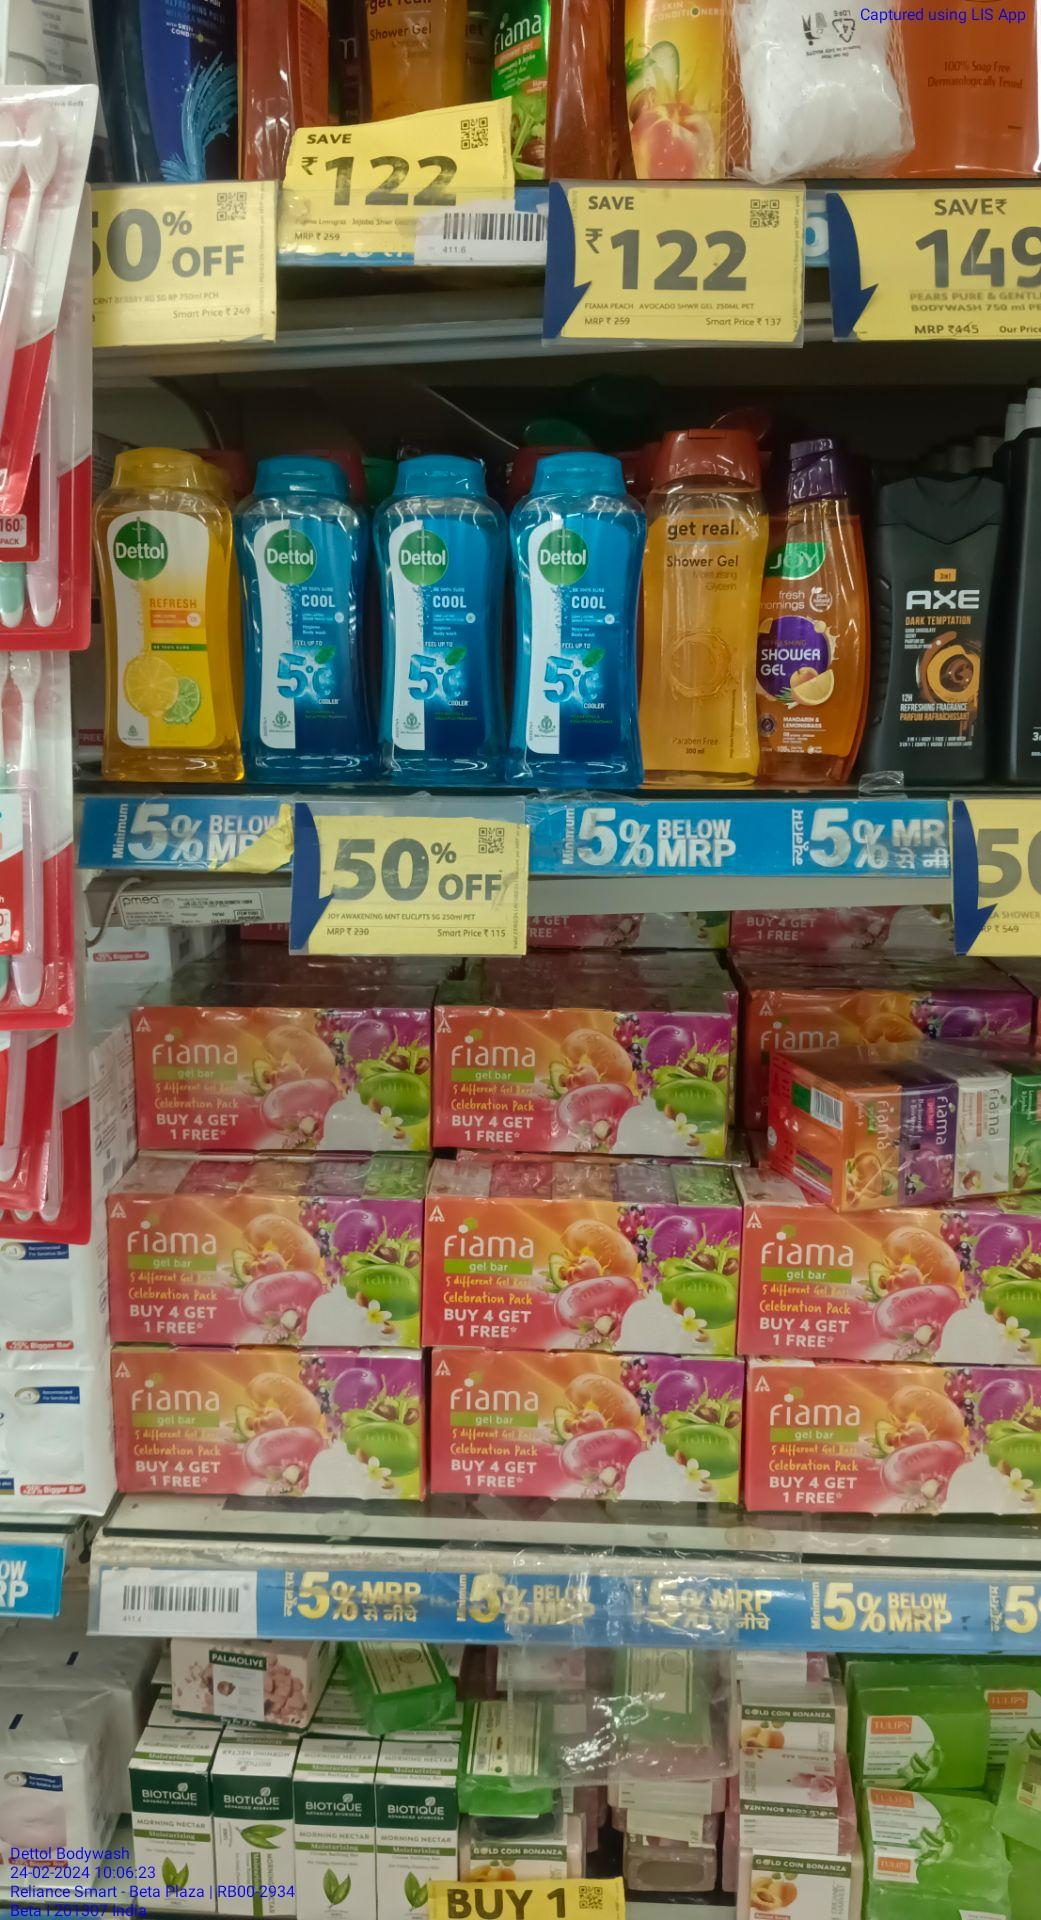Dettol_Bodywash_Cool: (510, 458, 644, 784), (247, 452, 371, 786), (378, 460, 503, 786)
Dettol_Bodywash_Refresh: (92, 450, 244, 781)
Get_Real_Shower_Gel_Moisturising_Glycerin_300ML: (640, 434, 762, 781)
Joy_Shower_Gel_Mandarin_and_Lemongrass_250ML: (760, 436, 868, 792)
